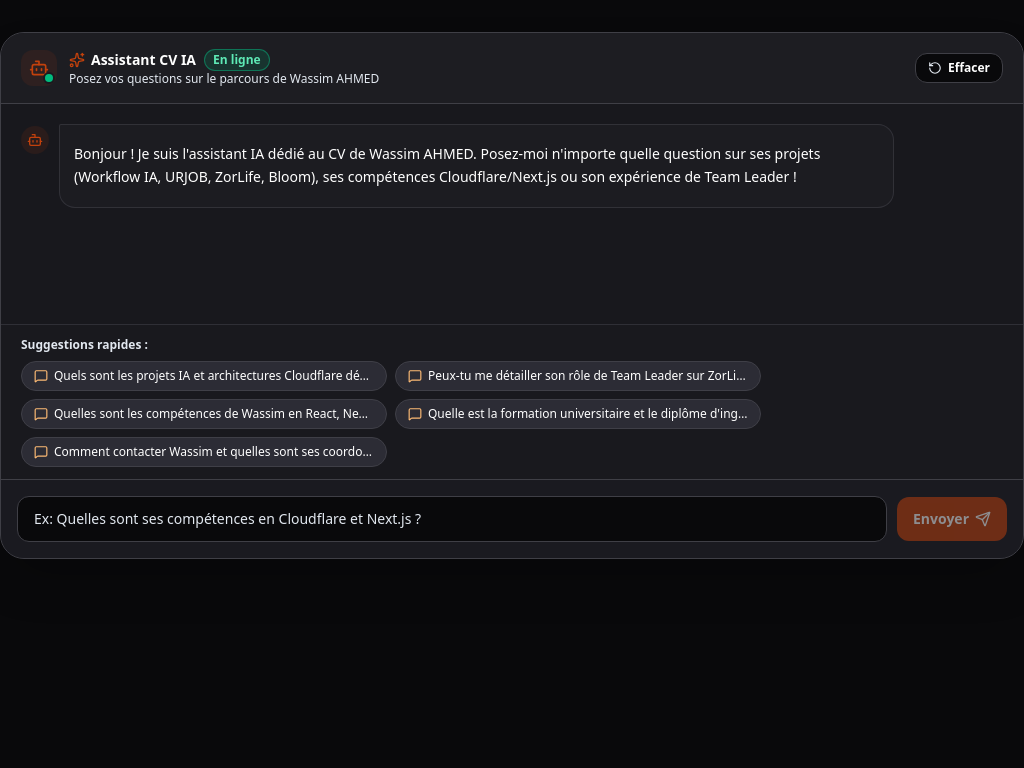
Scenario: EmbeddedChatbot › sends a user message and displays the assistant response via MSW
Type "Quels sont ses projets Cloudflare ?" into the field labelled "Ex: Quelles sont ses compétences en Cloudflare et Next.js ?" at (452, 519), box 17,496 -> 887,542
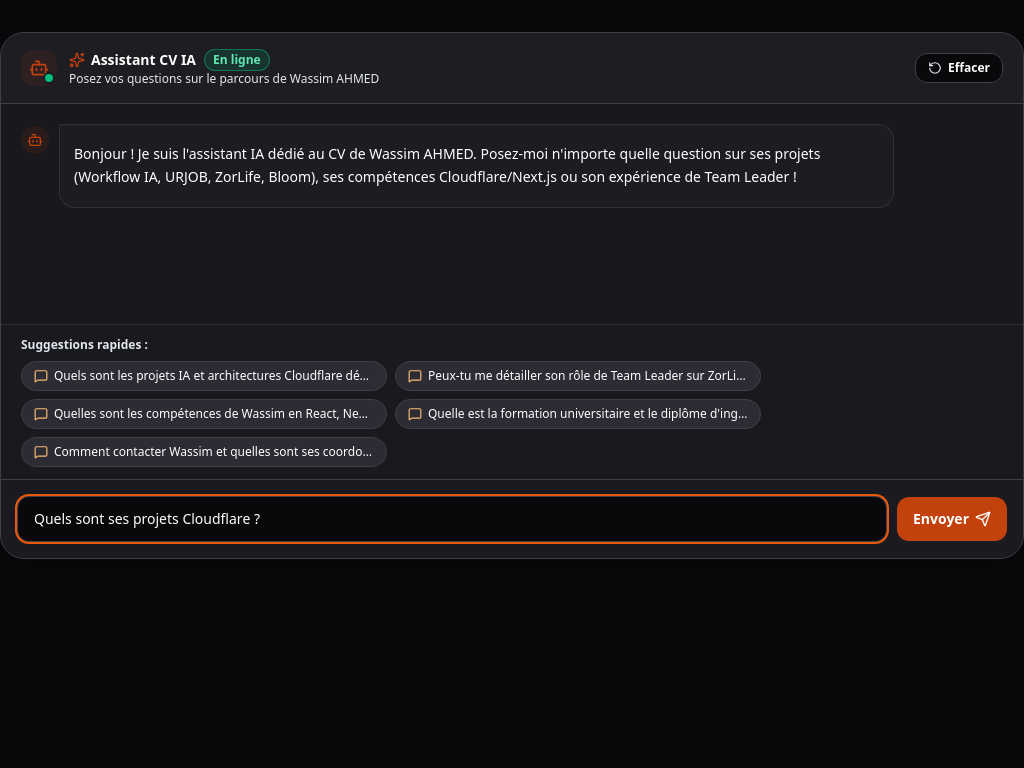
Click the button "Envoyer" at (952, 519), box 897,497 -> 1007,541
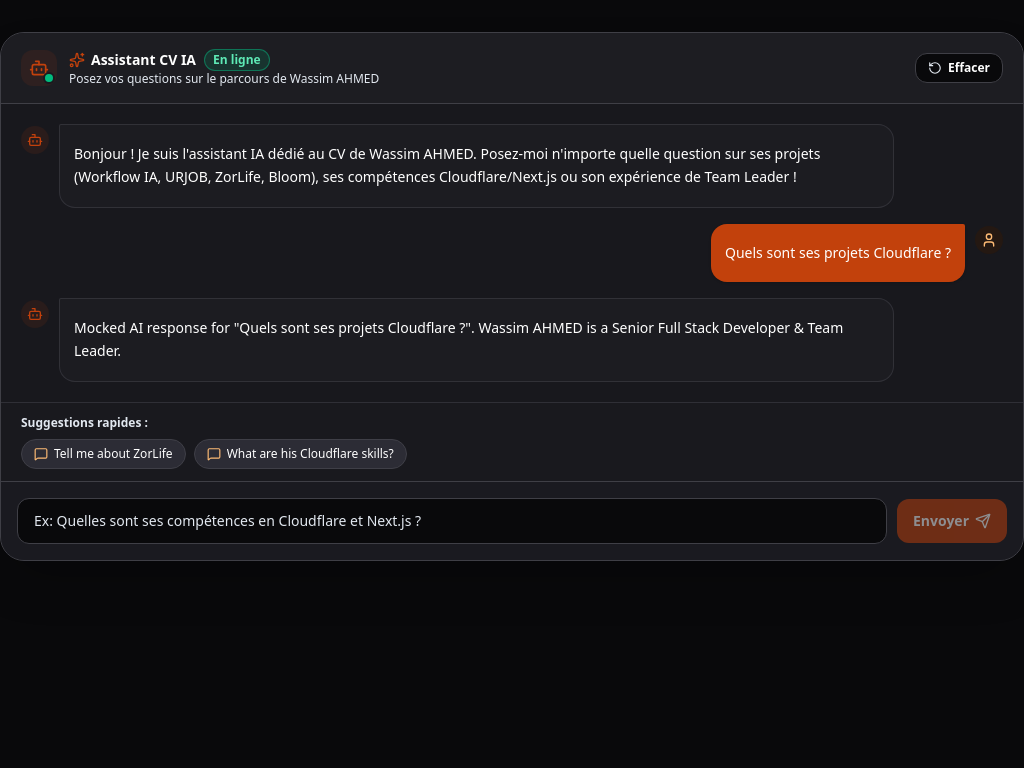
Expected: the text "Quels sont ses projets Cloudflare ?" is shown, 725,242 -> 951,264
Expected: the text "Mocked AI response for \"Quels sont ses projets Cloudflare ?\"" is shown, 74,318 -> 843,360
